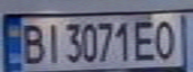0: (78, 19, 100, 63)
1: (112, 18, 133, 62)
3: (63, 20, 81, 63)
7: (96, 18, 115, 63)
B: (18, 20, 48, 65)
E: (130, 17, 160, 62)
I: (42, 20, 63, 64)
O: (151, 16, 181, 61)
